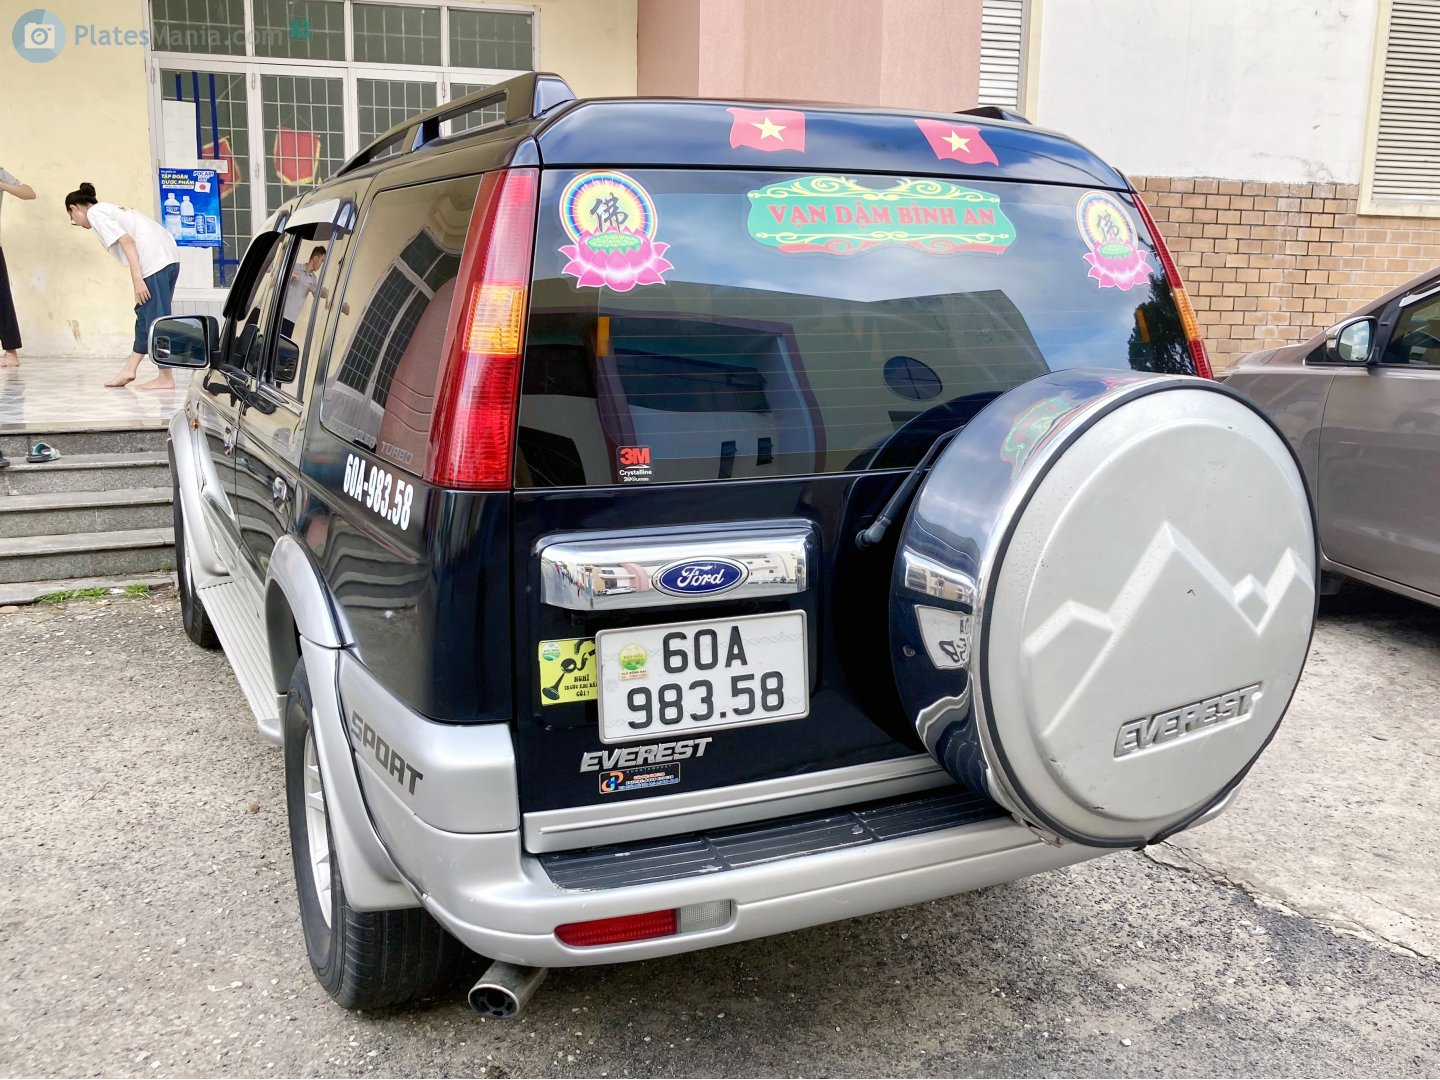bien_so: (599, 612, 808, 741)
